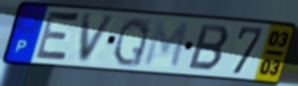7: (232, 25, 264, 76)
B: (186, 22, 232, 73)
E: (32, 8, 82, 65)
M: (141, 19, 191, 70)
Q: (111, 16, 152, 69)
V: (77, 13, 118, 65)
